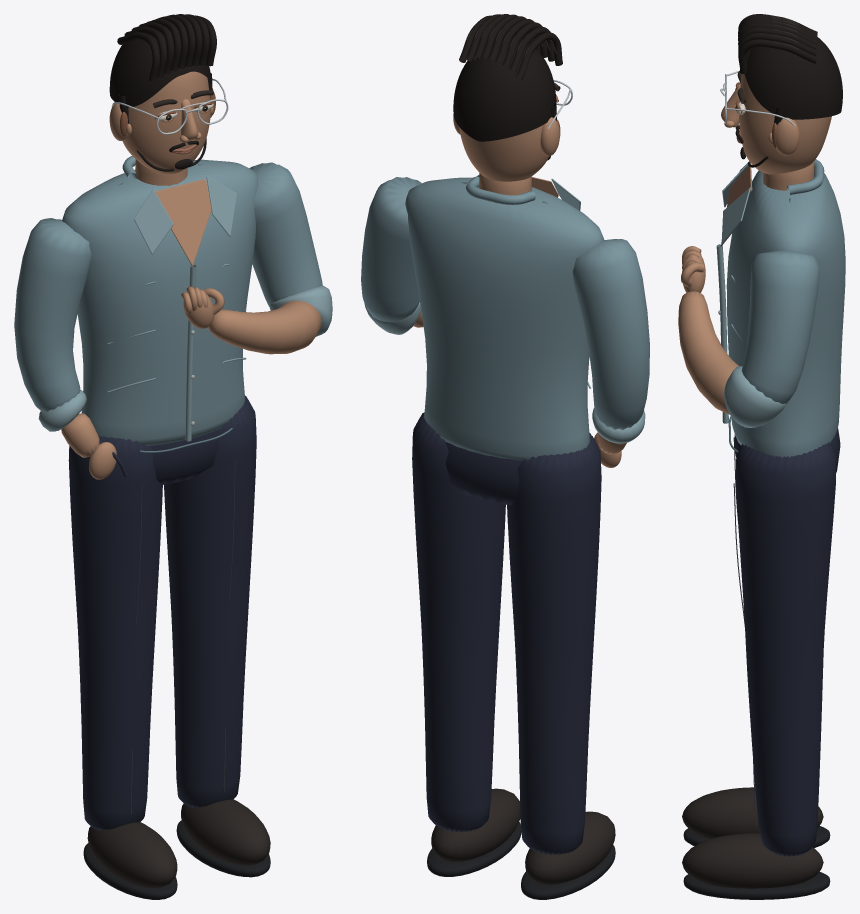
Rendered from Rafi.fbx.
3 renders of one model, left to right at view 1: azimuth 30°, elevation 25°; view 2: azimuth 150°, elevation 25°; view 3: azimuth 270°, elevation 25°, orthographic.
Parts seen in each view (by area): view 1: Shirt body, Left trouser leg, Right trouser leg, Lowered left sleeve, Bent upper sleeve, Sculpted head, Exposed bent forearm, Leather shoe.001, Leather shoe, Shaped hair cap, Open shirt chest, Trouser hips (+10 smaller); view 2: Shirt body, Left trouser leg, Right trouser leg, Lowered left sleeve, Shaped hair cap, Bent upper sleeve, Leather shoe, Leather shoe.001, Trouser hips, Sculpted head, Shoe sole, Shoe sole.001 (+7 smaller); view 3: Right trouser leg, Shirt body, Bent upper sleeve, Shaped hair cap, Leather shoe.001, Exposed bent forearm, Sculpted head, Leather shoe, Rolled right sleeve, Shoe sole.001, Swept quiff.008_Mesh, Neck (+11 smaller).
Boxes of the visible parts, x1=… form: Shirt body: x1=62, y1=159, x2=257, y2=445; Left trouser leg: x1=68, y1=435, x2=162, y2=830; Right trouser leg: x1=164, y1=395, x2=256, y2=808; Lowered left sleeve: x1=14, y1=218, x2=91, y2=412; Bent upper sleeve: x1=249, y1=162, x2=322, y2=306; Sculpted head: x1=122, y1=71, x2=210, y2=174; Exposed bent forearm: x1=208, y1=300, x2=321, y2=354; Leather shoe.001: x1=181, y1=799, x2=270, y2=865; Leather shoe: x1=87, y1=822, x2=177, y2=888; Shaped hair cap: x1=109, y1=30, x2=211, y2=107; Open shirt chest: x1=155, y1=179, x2=211, y2=266; Trouser hips: x1=148, y1=428, x2=220, y2=484; Shirt body: x1=405, y1=177, x2=604, y2=460; Left trouser leg: x1=507, y1=432, x2=601, y2=854; Right trouser leg: x1=412, y1=412, x2=505, y2=831; Lowered left sleeve: x1=572, y1=239, x2=649, y2=429; Shaped hair cap: x1=453, y1=38, x2=556, y2=141; Bent upper sleeve: x1=361, y1=177, x2=421, y2=321; Leather shoe: x1=525, y1=811, x2=615, y2=884; Leather shoe.001: x1=431, y1=788, x2=520, y2=861; Trouser hips: x1=445, y1=441, x2=522, y2=505; Sculpted head: x1=459, y1=125, x2=548, y2=181; Shoe sole: x1=521, y1=845, x2=615, y2=899; Shoe sole.001: x1=427, y1=822, x2=521, y2=876; Right trouser leg: x1=735, y1=442, x2=835, y2=856; Shirt body: x1=726, y1=170, x2=845, y2=457; Bent upper sleeve: x1=741, y1=250, x2=819, y2=404; Shaped hair cap: x1=745, y1=37, x2=842, y2=119; Leather shoe.001: x1=682, y1=833, x2=823, y2=888; Exposed bent forearm: x1=678, y1=291, x2=738, y2=414; Sculpted head: x1=739, y1=74, x2=831, y2=174; Leather shoe: x1=682, y1=787, x2=823, y2=838; Rolled right sleeve: x1=724, y1=366, x2=785, y2=427; Shoe sole.001: x1=683, y1=872, x2=830, y2=899; Swept quiff.008_Mesh: x1=738, y1=39, x2=817, y2=74; Neck: x1=763, y1=161, x2=814, y2=190.
Size of what is drawn, in the model's own units: 65.99 by 181 by 32.4.
